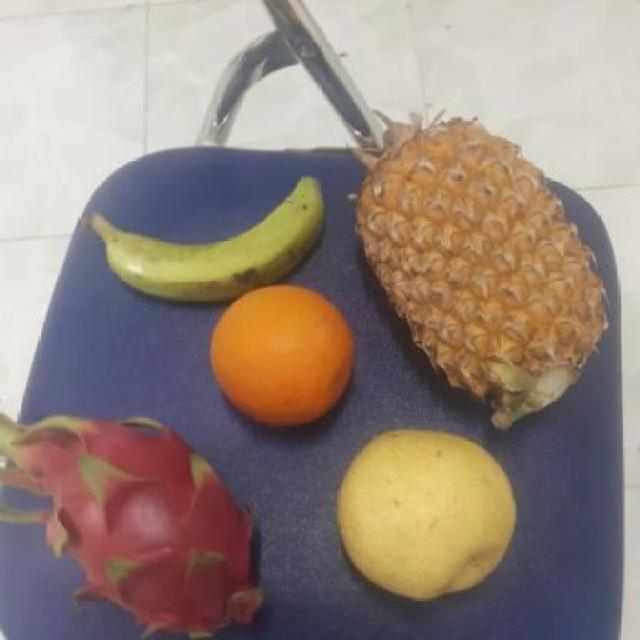banana: (98, 157, 338, 305)
dragon fruit: (29, 418, 277, 639)
oren: (209, 282, 363, 429)
pear: (333, 418, 524, 601)
pineapple: (358, 135, 611, 422)
